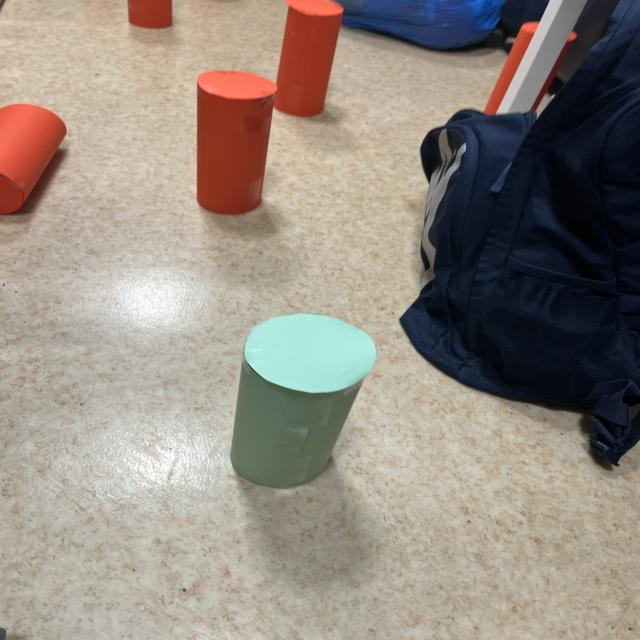meta: (230, 313, 375, 488)
przeszkoda: (197, 0, 343, 215), (0, 104, 66, 213), (128, 0, 172, 29)
